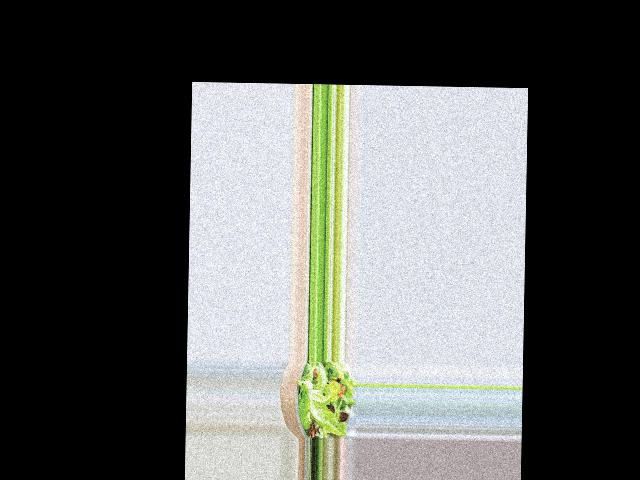lettuce: (297, 364, 353, 432)
